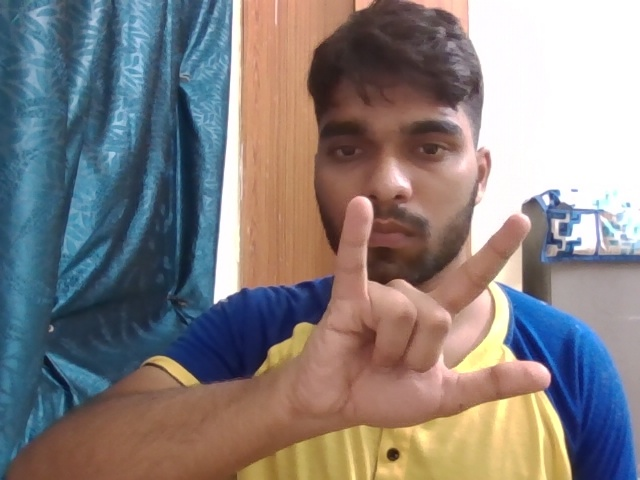I love you: (288, 187, 574, 441)
